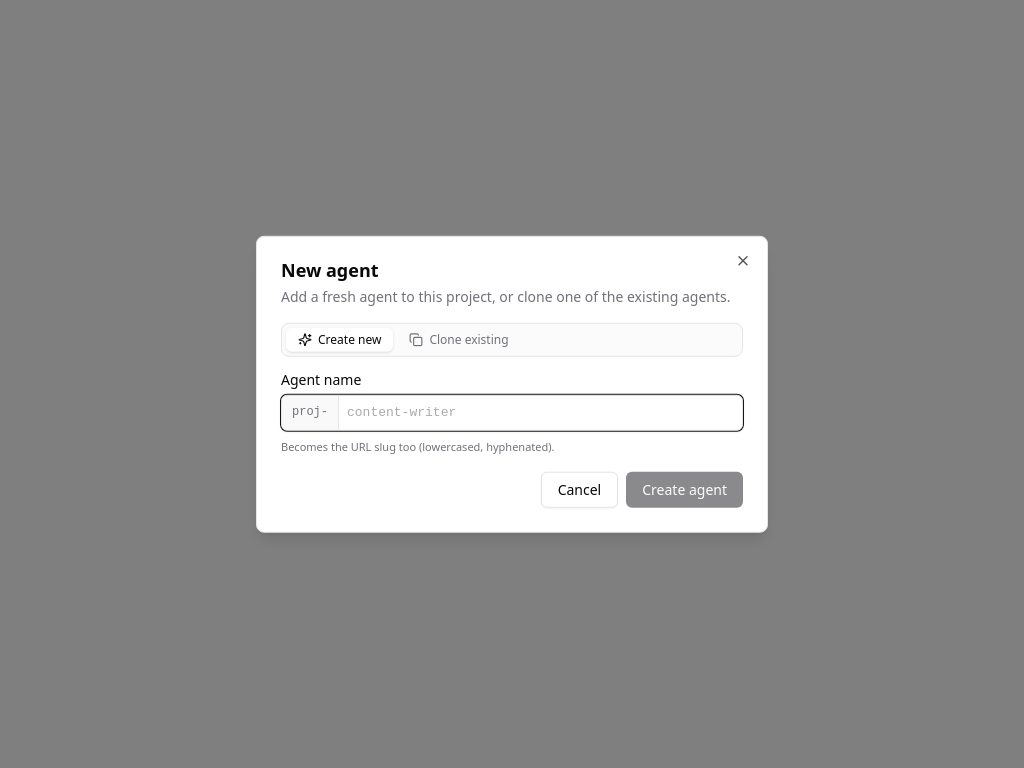
Test: CreateAgentDialog — clone mode › shows the source picker once choices have loaded
Click the button "Clone existing".
click(459, 340)  # box [397, 328, 521, 352]
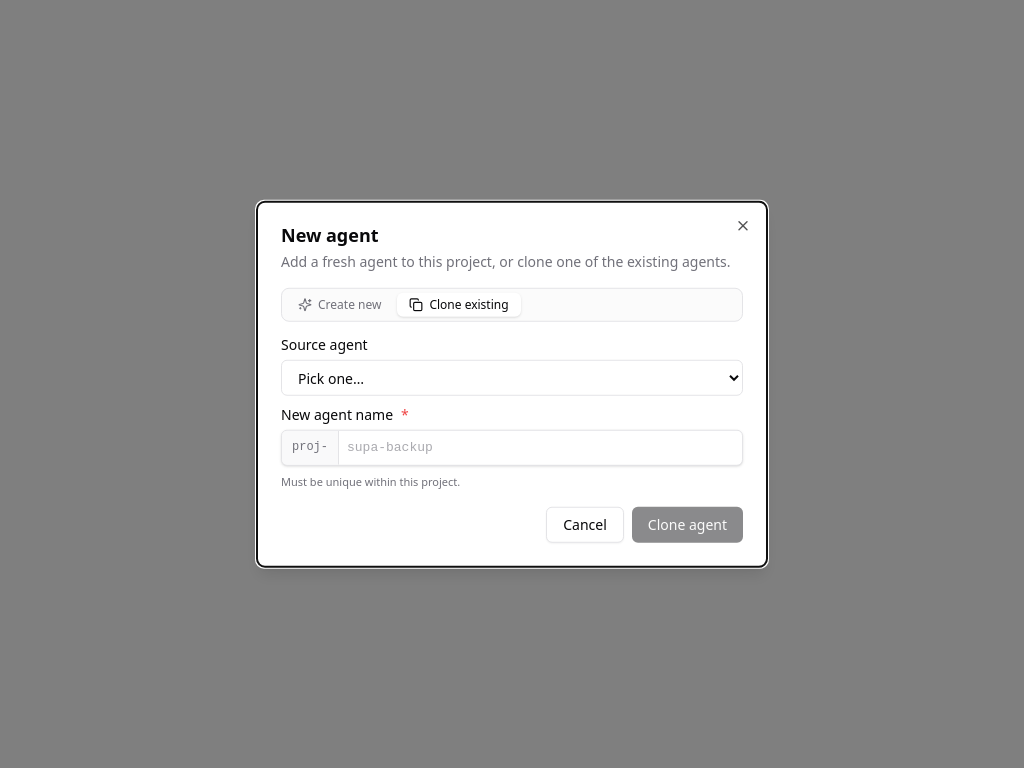
Now the dropdown labelled "Source agent" is shown, box [281, 360, 743, 396]
